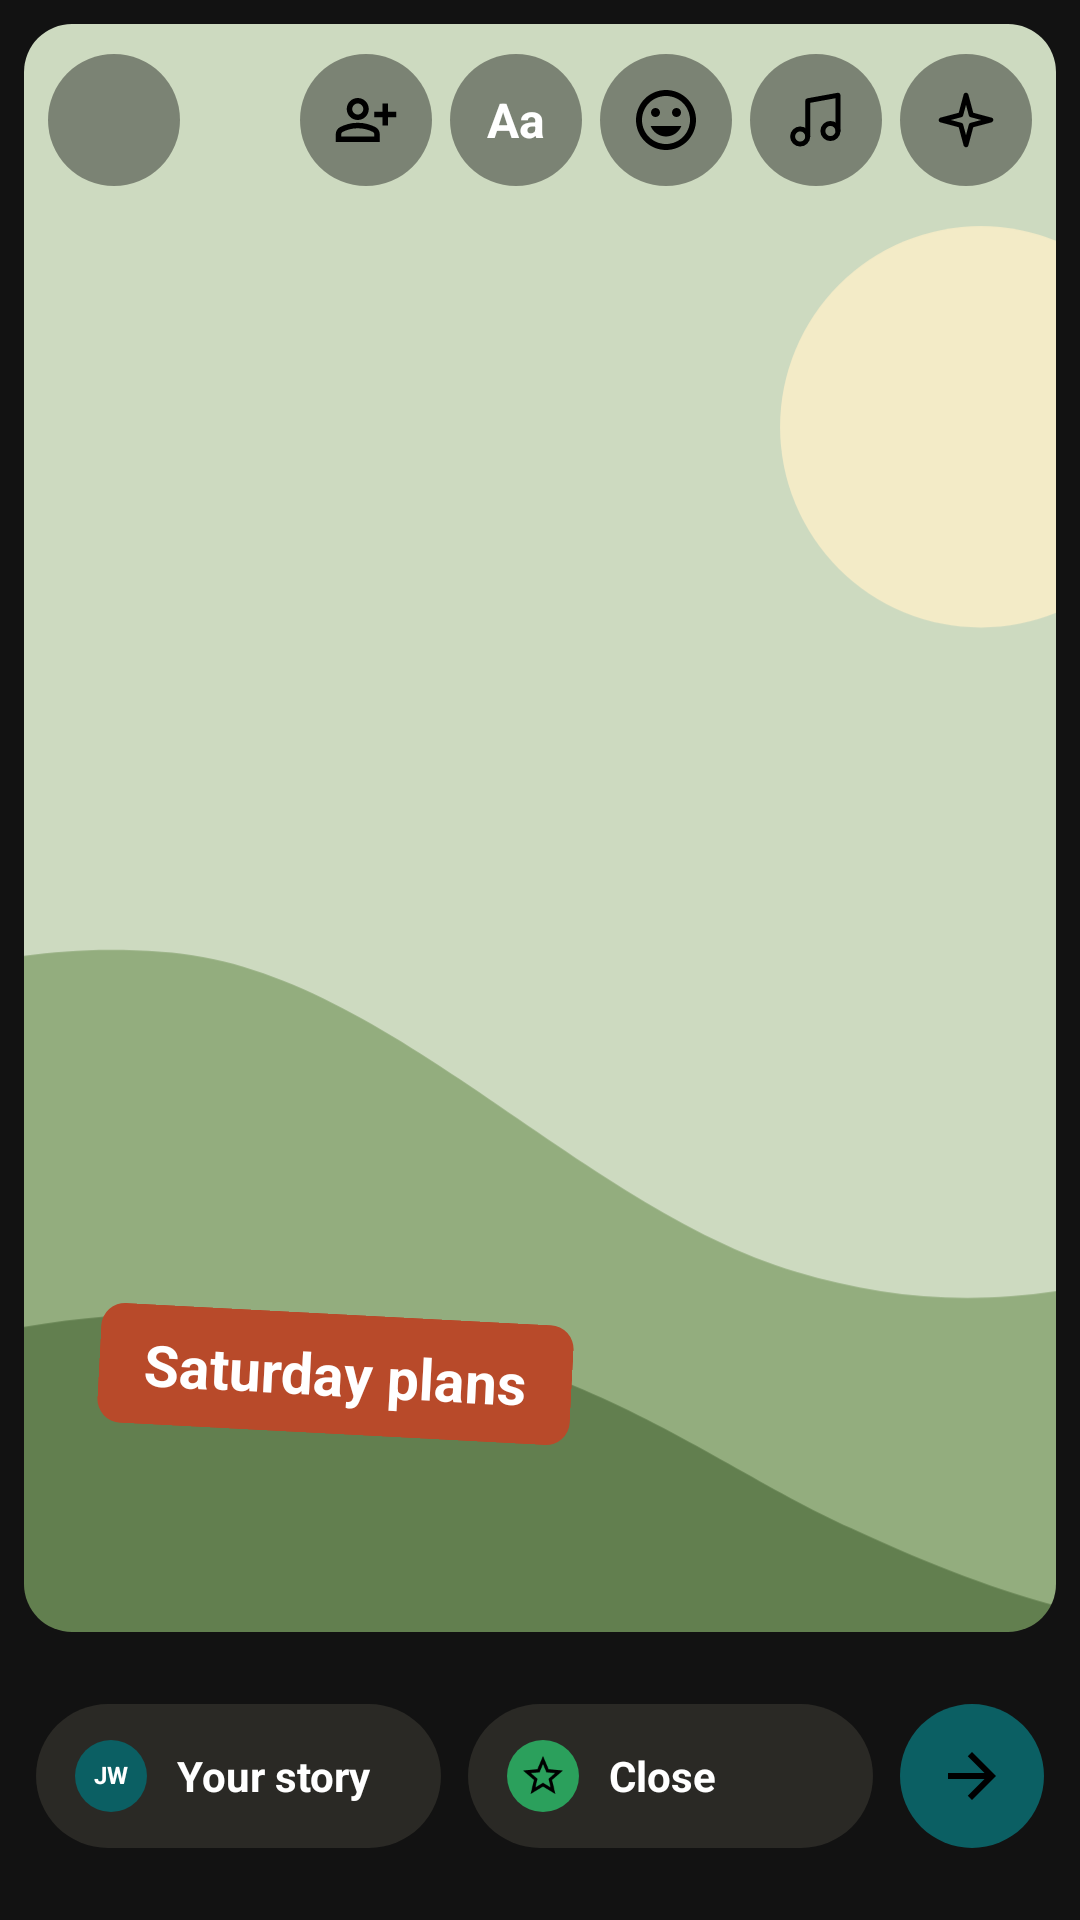

Icon click points for this 1080*1920 phone screenshot, format [x,y]:
Effects: [966,120]
Emoji: [666,120]
Music: [816,120]
Share story: [972,1776]
star: [543,1776]
Tag people: [366,120]
